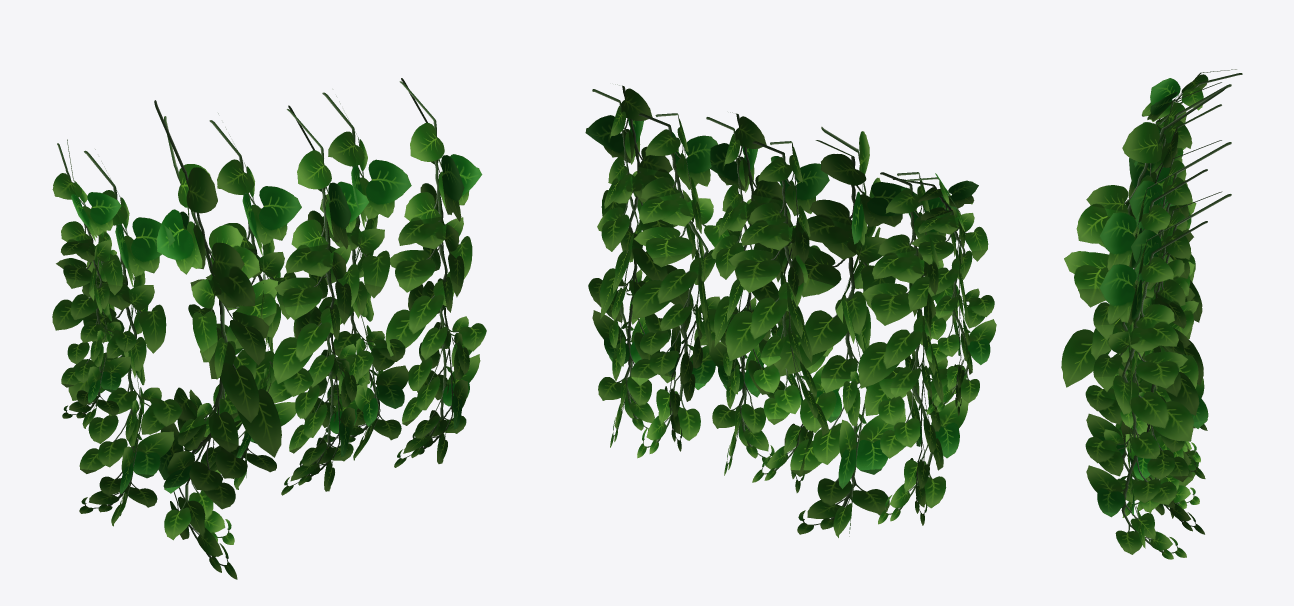
The model's file is vines1.fbx.
3 views of the same model, side by side, from view 1: azimuth 30°, elevation 25°; view 2: azimuth 150°, elevation 25°; view 3: azimuth 270°, elevation 25° (orthographic). The views are drawn at different scales.
Visible parts, largest first — view 1: vines1; view 2: vines1; view 3: vines1.
Boxes of the visible parts, bbox=[...] form: vines1: bbox=[52, 78, 486, 579]; vines1: bbox=[585, 84, 996, 537]; vines1: bbox=[1061, 69, 1242, 559].
Bounding box in the file's own units: 156 × 173 × 73.29.
Materials: 1 (1 with a texture image).
